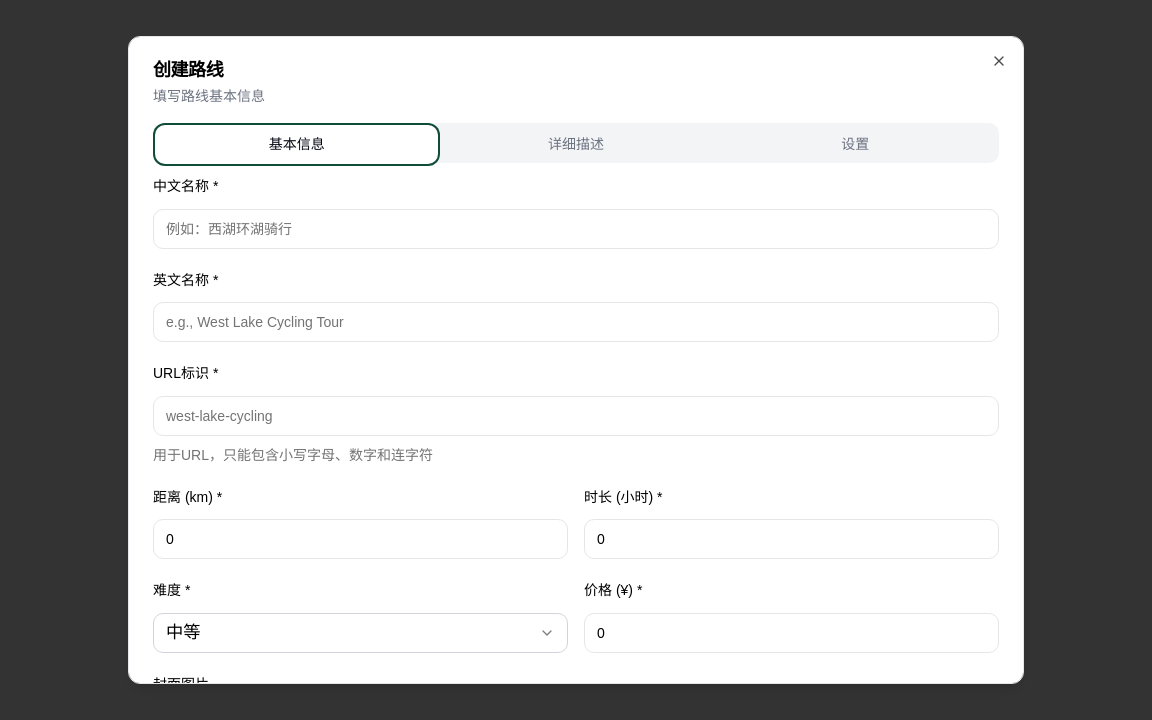
Test: RouteEditor - Form Validation Tests (Requirements 8.2) › Numeric Field Validation › should show error when distance is negative
The width and height of the screenshot is (1152, 720).
Replace the text in the number field labelled "距离 (km) *" with "-10". click: (360, 539)
box: [153,519,568,559]
(page scrolled)
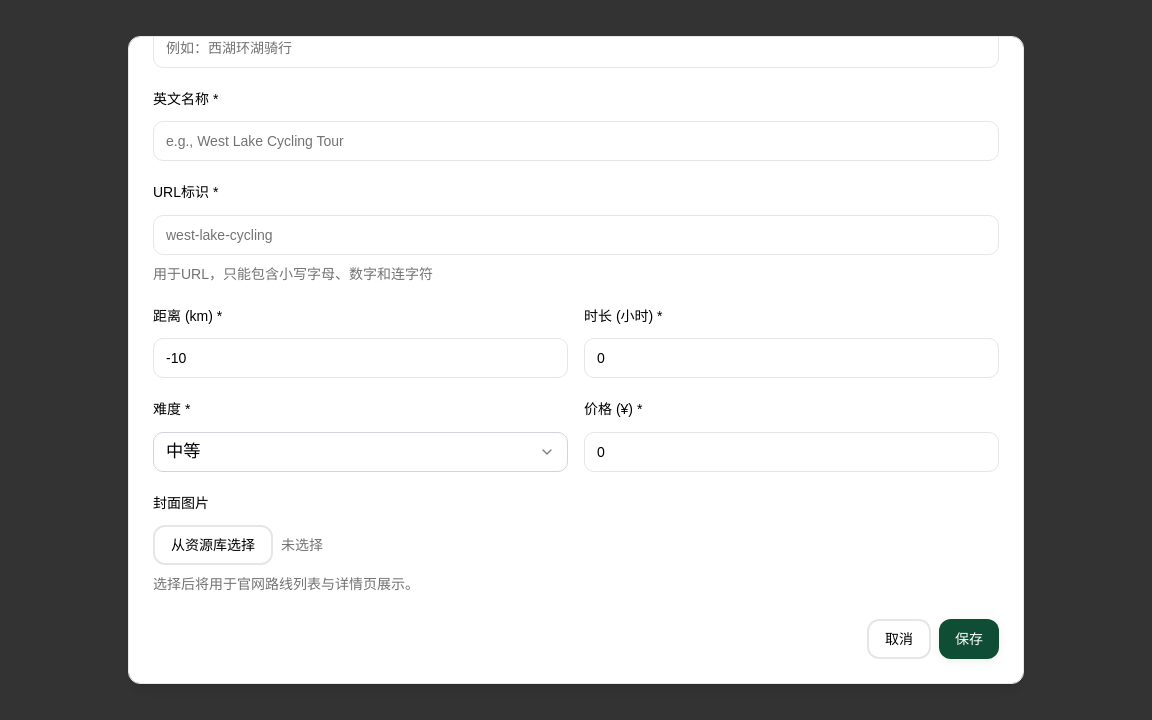
Click the button "保存". click: (969, 639)
box: [939,619,999,659]
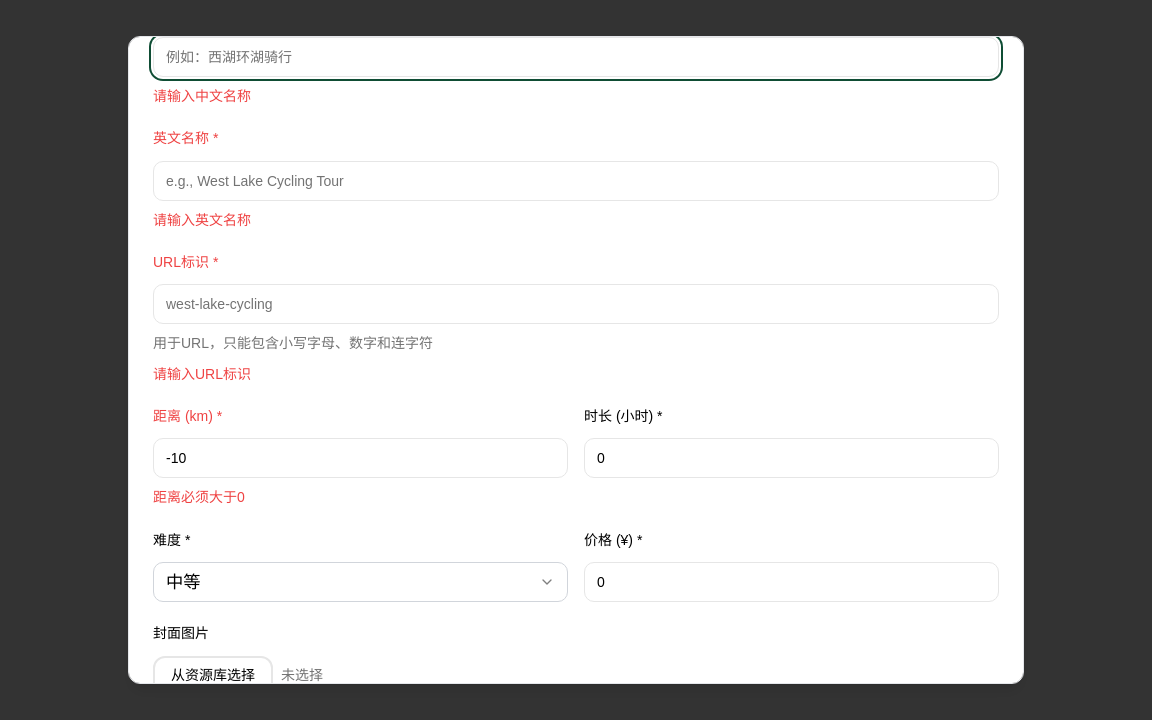
Now the text "距离必须大于0" is shown, box [153,490,245,506]
